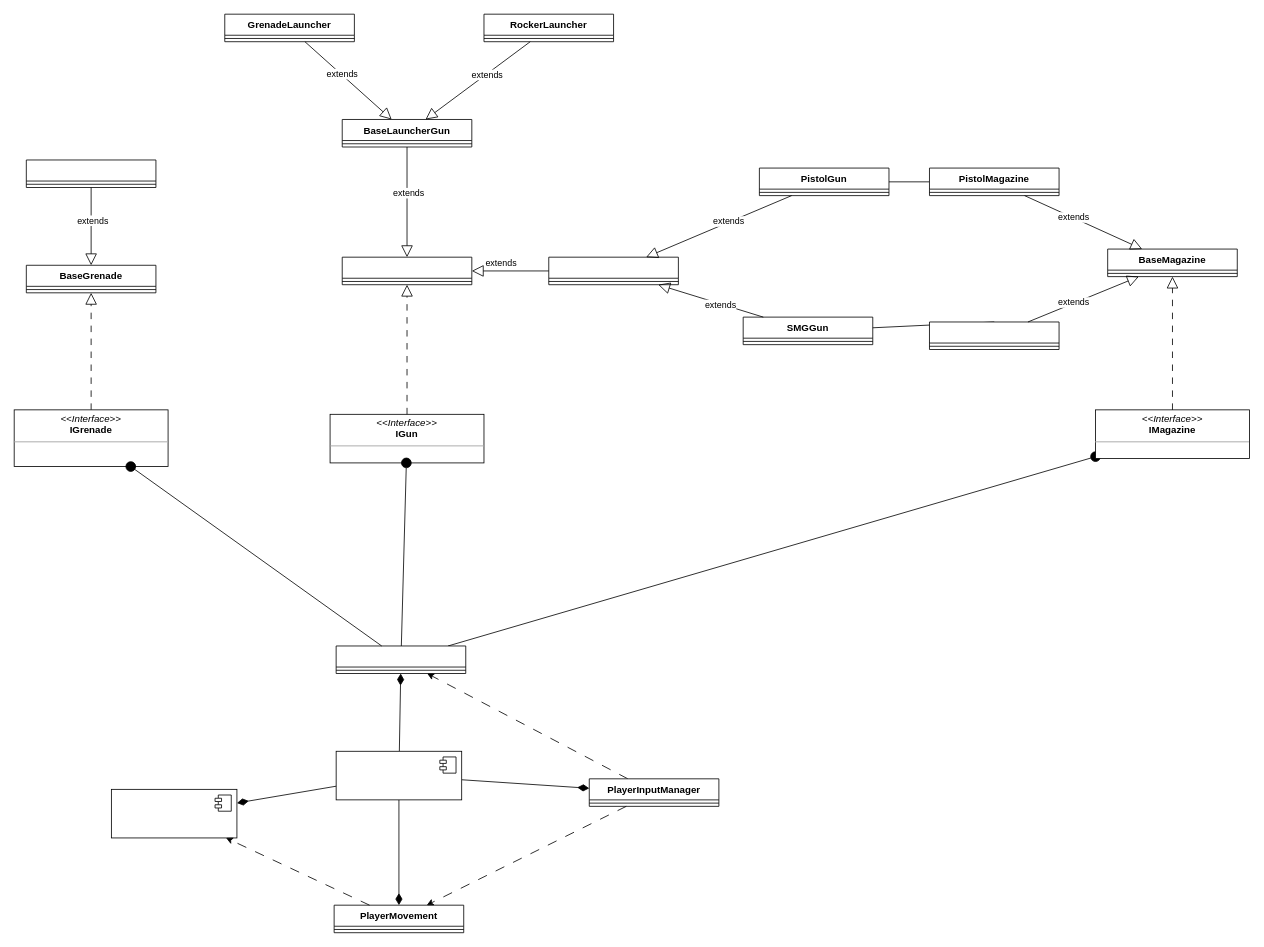
This 1264x947 diagram has some shape labels left out. Here are the shapes that lost their labels. From the top down, the box of each, then its label:
(26, 159, 156, 188): PlasmaGrenade
(341, 256, 472, 285): BaseGun
(548, 256, 678, 285): BaseHitScanGun
(929, 321, 1059, 350): SMGMagazine
(335, 645, 466, 674): WeaponsManager
(335, 750, 462, 800): «GameObject» PlayerCharacter
(111, 789, 237, 838): «GameObject» PlayerController
